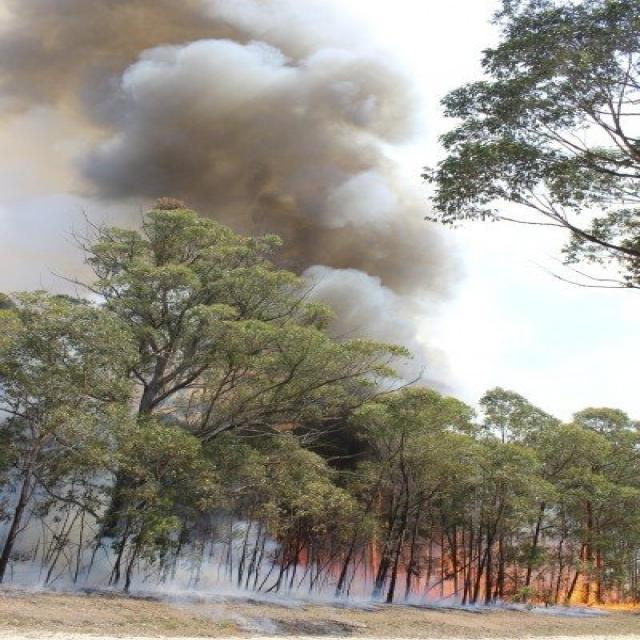Fire: (330, 540, 640, 607), (366, 540, 382, 580)
Smoke: (40, 0, 460, 325), (29, 512, 296, 626)
